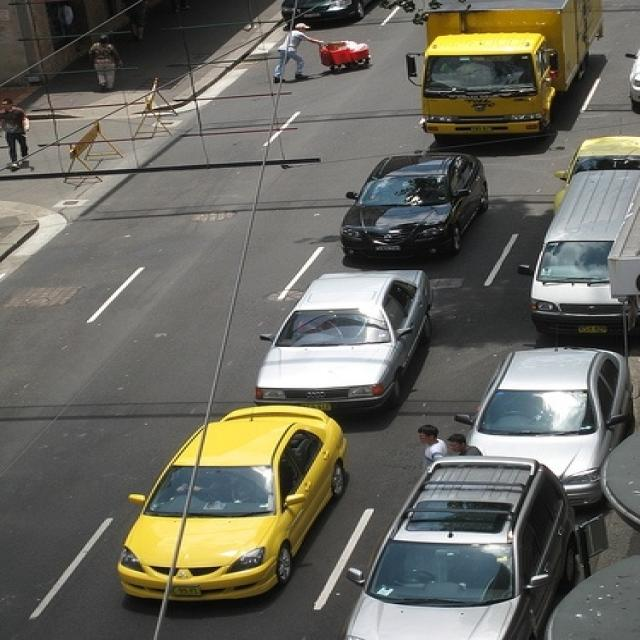Caminhao: (414, 0, 607, 137)
Carro Amarelo: (107, 393, 350, 616)
Carro Prata: (352, 460, 584, 640), (238, 253, 455, 418), (461, 337, 640, 504), (547, 172, 640, 338)
Carro Preto: (335, 145, 496, 266)
